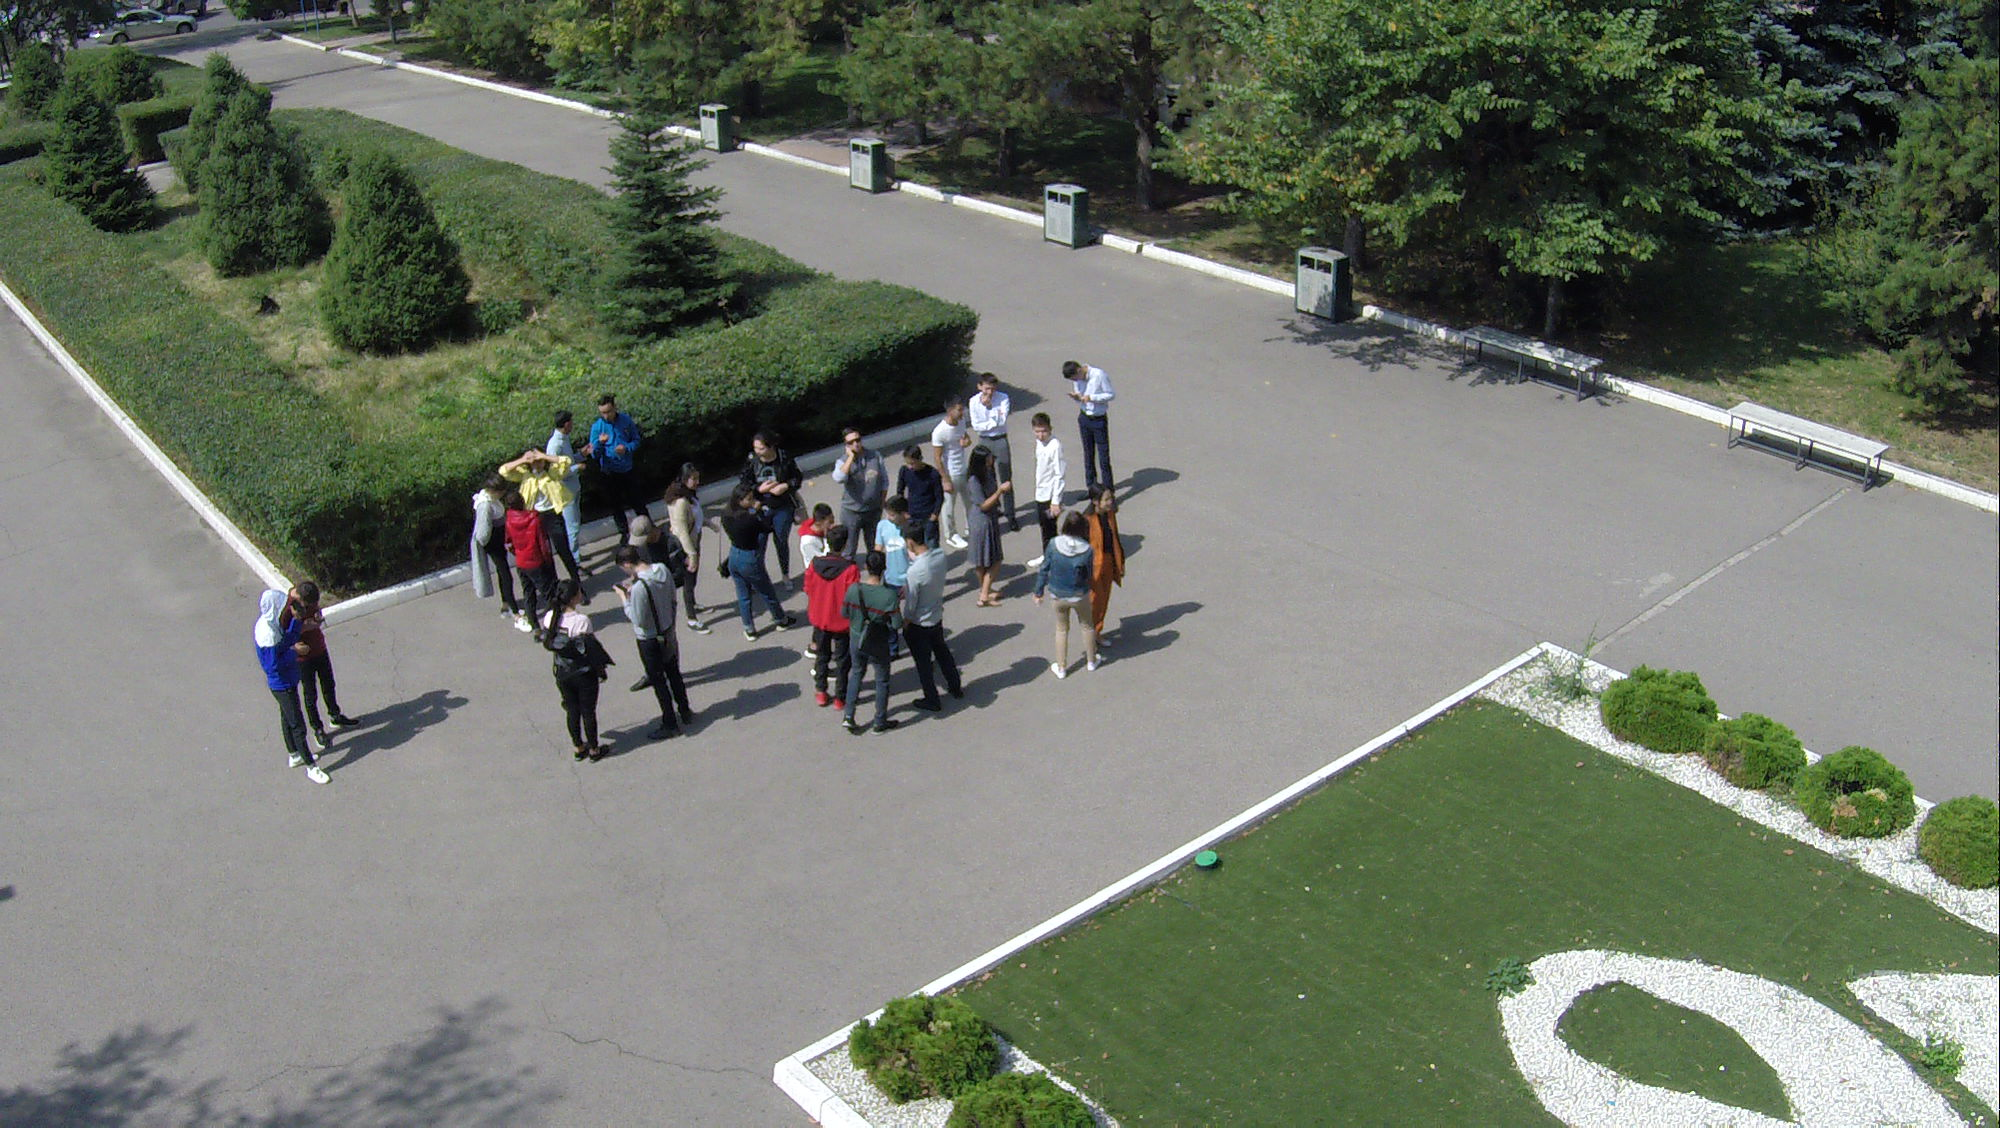person: (226, 585, 324, 820), (610, 543, 705, 733), (841, 549, 907, 733), (1035, 512, 1095, 693), (910, 522, 960, 722), (547, 597, 605, 760), (1060, 355, 1128, 485), (664, 466, 716, 628), (803, 535, 851, 711), (587, 399, 645, 541), (718, 508, 778, 641), (303, 583, 345, 741), (462, 480, 514, 601), (507, 449, 566, 551), (545, 420, 595, 541), (926, 405, 978, 518), (832, 422, 882, 528), (1082, 493, 1116, 641), (497, 501, 543, 608), (978, 372, 1007, 510), (899, 441, 945, 524), (1030, 414, 1062, 522), (755, 430, 787, 539)
